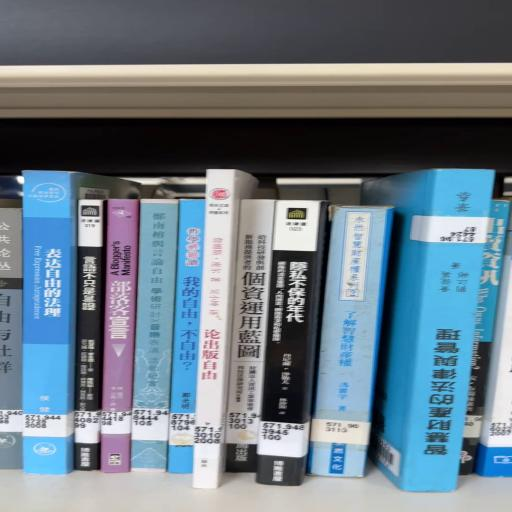reverse: (363, 169, 494, 492)
